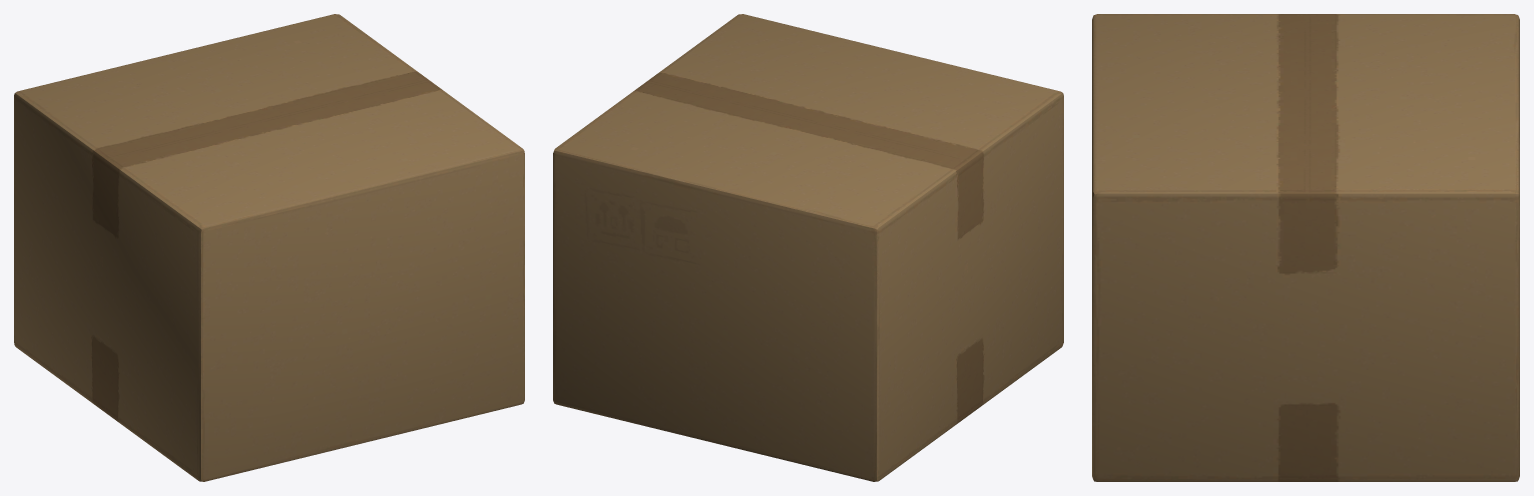
File: SM_cardboard_box_01.glb
The picture shows the model from 3 angles, left to right: view 1: azimuth 30°, elevation 25°; view 2: azimuth 150°, elevation 25°; view 3: azimuth 270°, elevation 25°; orthographic projection. The views are drawn at different scales.
Parts seen in each view (by area): view 1: SM_cardboard_box_01; view 2: SM_cardboard_box_01; view 3: SM_cardboard_box_01.
Part boxes in pixels (bbox=[...]): SM_cardboard_box_01: bbox=[14, 14, 524, 481]; SM_cardboard_box_01: bbox=[553, 14, 1063, 481]; SM_cardboard_box_01: bbox=[1092, 14, 1519, 481].
Bounding box in the file's own units: 0.8 × 0.6 × 0.8.
Materials: 1 (1 with a texture image).
